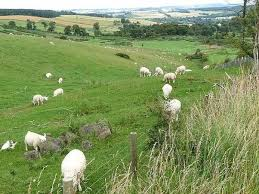sheep: (59, 145, 90, 190), (24, 131, 51, 153), (165, 99, 184, 123), (140, 67, 160, 83), (1, 138, 20, 153), (32, 92, 46, 110), (172, 60, 185, 78), (150, 65, 165, 80), (161, 83, 173, 101), (163, 71, 179, 84), (49, 87, 62, 99), (58, 75, 68, 88), (40, 71, 54, 79)
